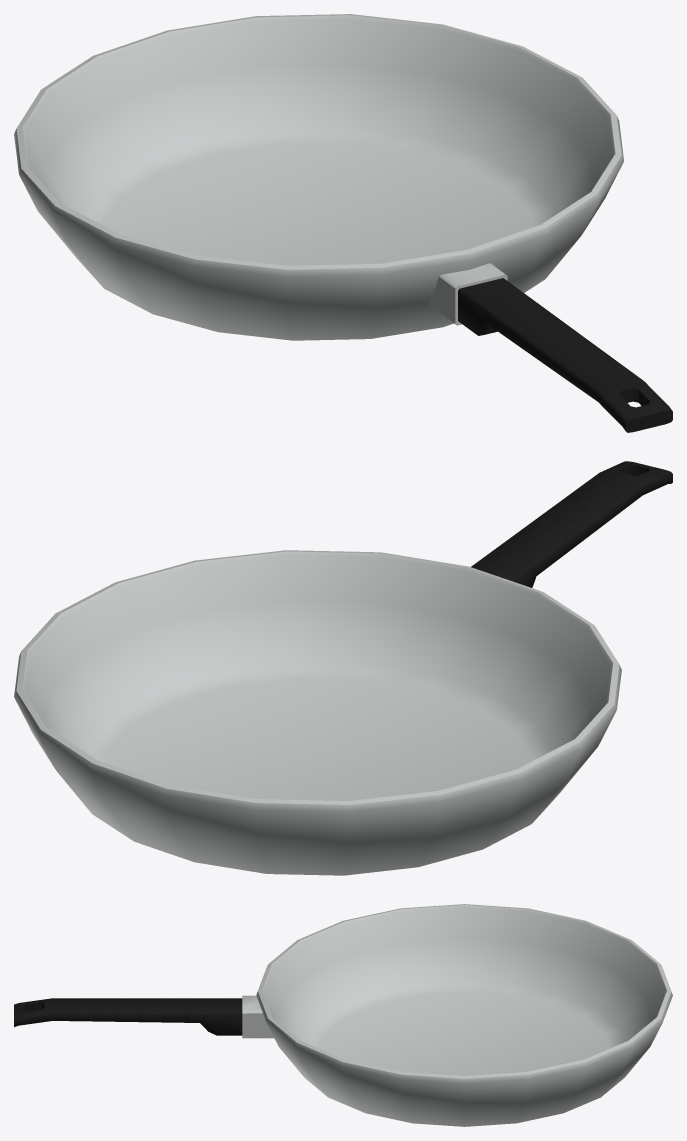
Rendered from frying_pan.FBX.
The picture shows the model from 3 angles, top to bottom: view 1: azimuth 30°, elevation 25°; view 2: azimuth 150°, elevation 25°; view 3: azimuth 270°, elevation 25°; orthographic projection. The views are drawn at different scales.
Visible parts, largest first — view 1: frying_pan; view 2: frying_pan; view 3: frying_pan.
Part boxes in pixels (x1=…): frying_pan: x1=14, y1=14, x2=672, y2=432; frying_pan: x1=14, y1=461, x2=672, y2=875; frying_pan: x1=14, y1=904, x2=672, y2=1126.
Bounding box in the file's own units: 36.91 × 6.99 × 58.36.
Materials: 1 (1 with a texture image).
